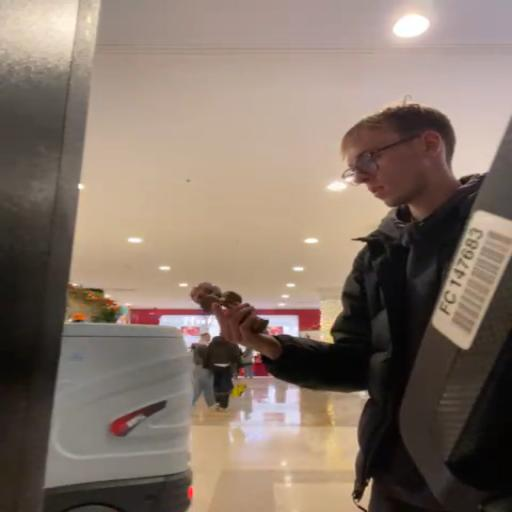kendama_ball: (190, 282, 222, 306)
